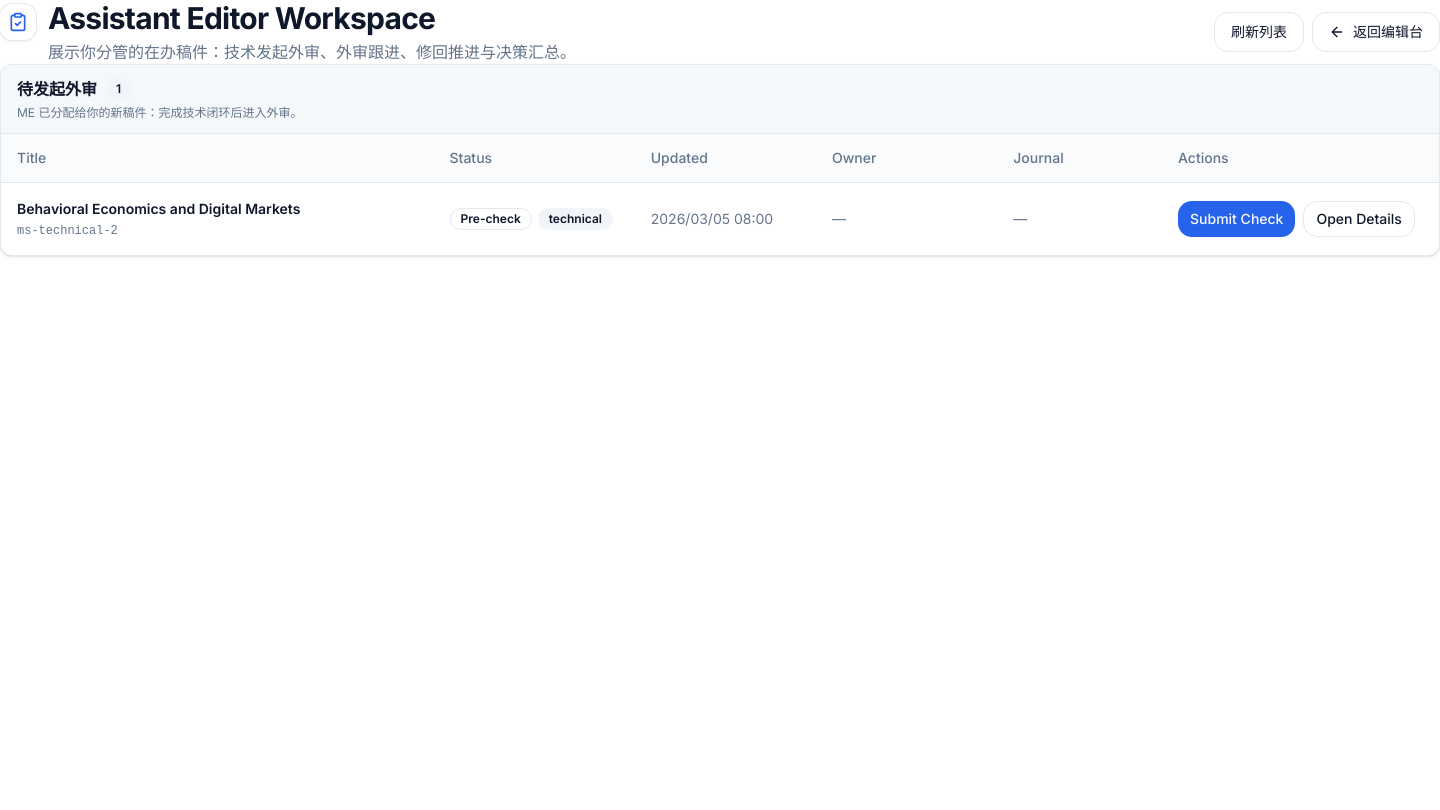
Test: AEWorkspacePanel submit check dialog close guard › closes with top-right close button without leaving empty manuscript context visible
Click the button "Submit Check".
click(1237, 218)  # box left=1178, top=200, right=1295, bottom=236
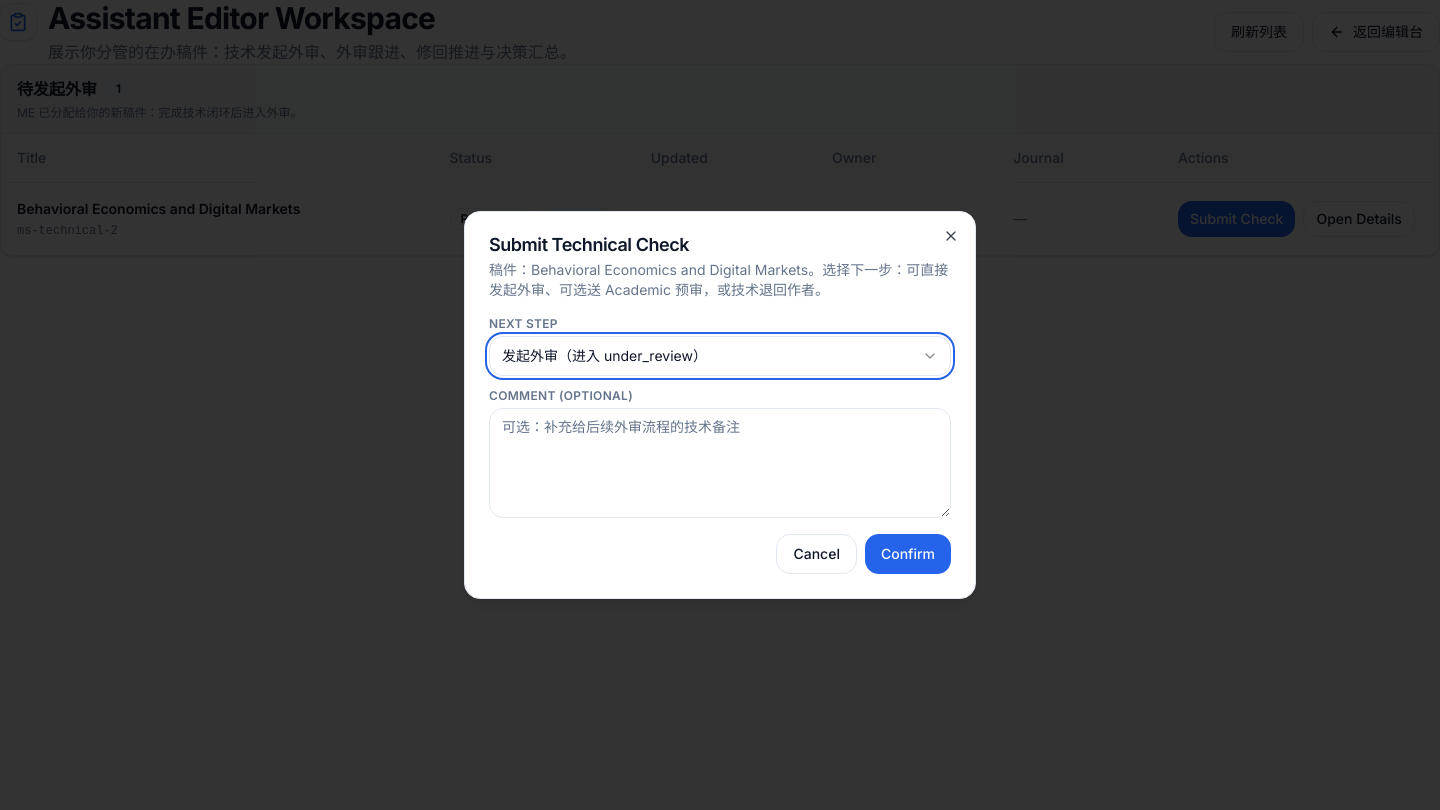
Check: the heading "Submit Technical Check" is shown, box left=489, top=234, right=689, bottom=255
Click the button named "Close".
click(951, 236)  # box left=943, top=228, right=959, bottom=244
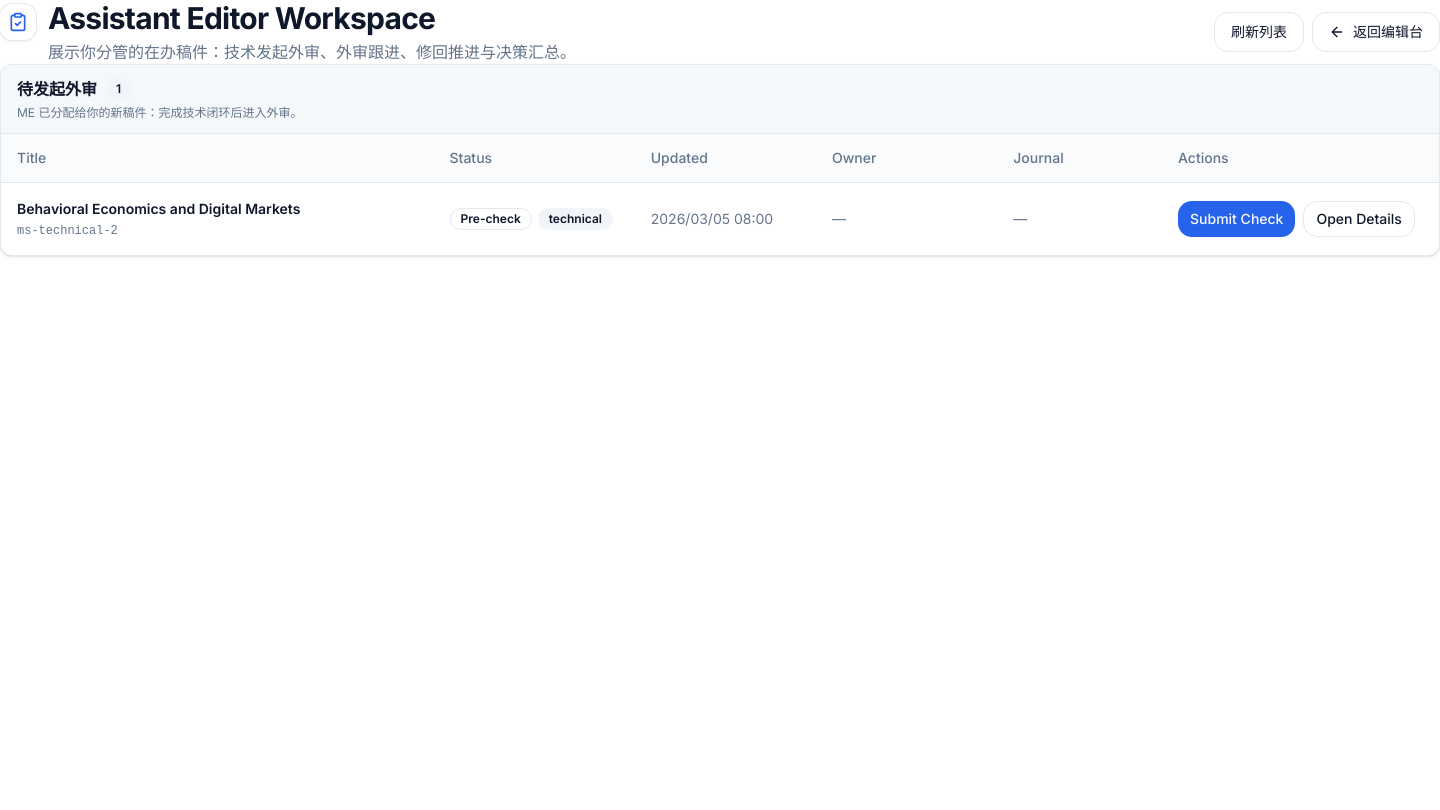
Check: the heading "Submit Technical Check" is gone
